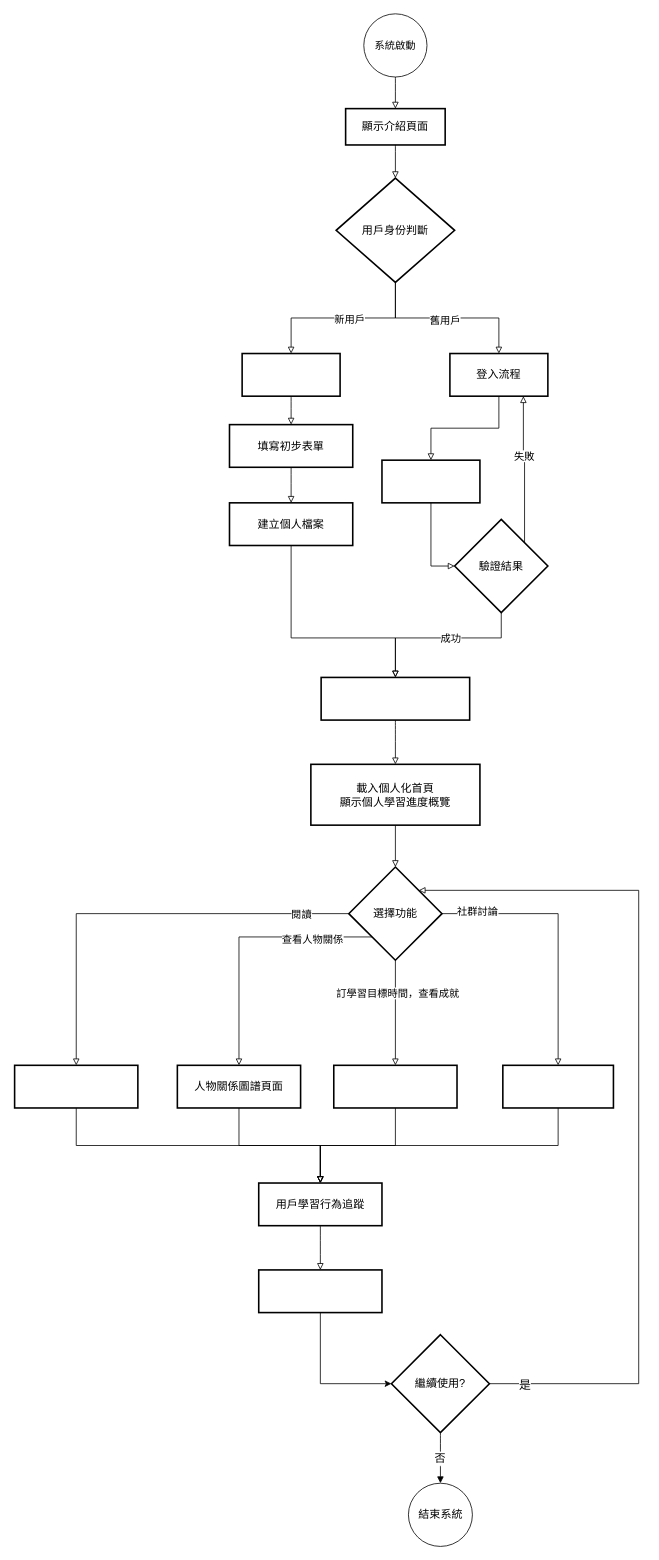
The diagram is 659 pixels wide and 1560 high, and some of its shapes have lost their labels. The centre of each missing label's shape, as x and y in pixels:
"成就系統頁面" goes at pixel 395 1086.
"用戶管理服務處理" goes at pixel 395 698.
"紅學社頁面" goes at pixel 558 1086.
"註冊流程" goes at pixel 290 374.
"資料庫更新用戶資料" goes at pixel 320 1291.
"身份驗證" goes at pixel 430 481.
"閱讀頁面" goes at pixel 75 1086.
